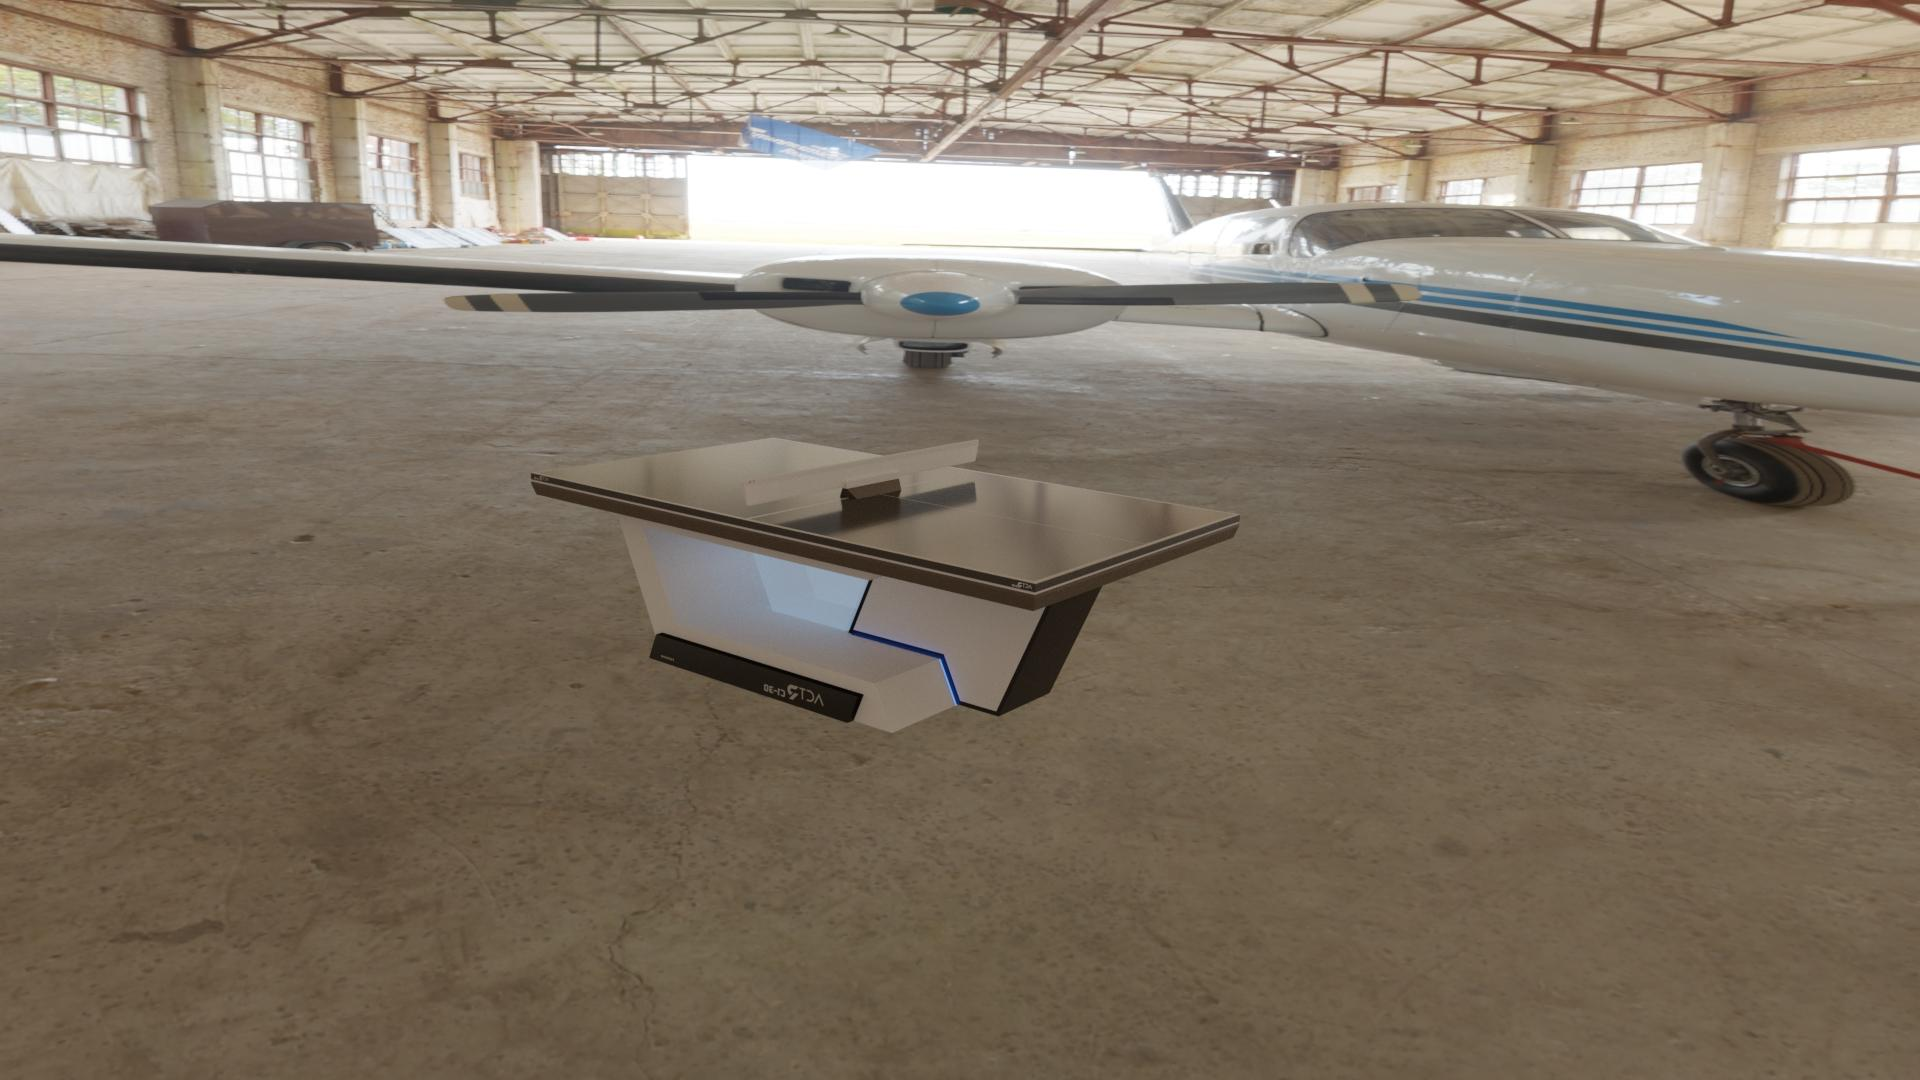table: (537, 439, 1234, 582)
